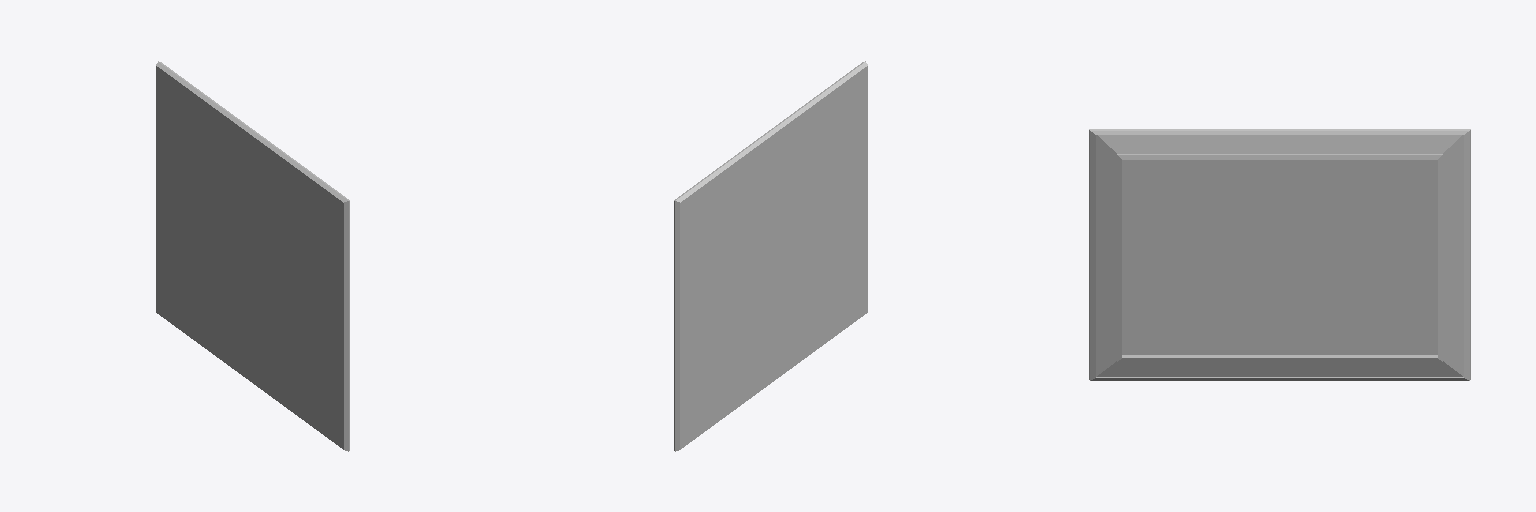
File: GalleryFrame_A.obj
The picture shows the model from 3 angles: view 1: azimuth 30°, elevation 25°; view 2: azimuth 150°, elevation 25°; view 3: azimuth 270°, elevation 25°; orthographic projection.
Visible parts, largest first — view 1: Frame_A2; view 2: Frame_A2; view 3: Frame_A2.
Part boxes in pixels (x1,y1,x2,y2): Frame_A2: (156,61,349,451); Frame_A2: (674,61,867,451); Frame_A2: (1089,129,1470,380).
Size of the model in its own units: 1.79 by 33.96 by 46.79.